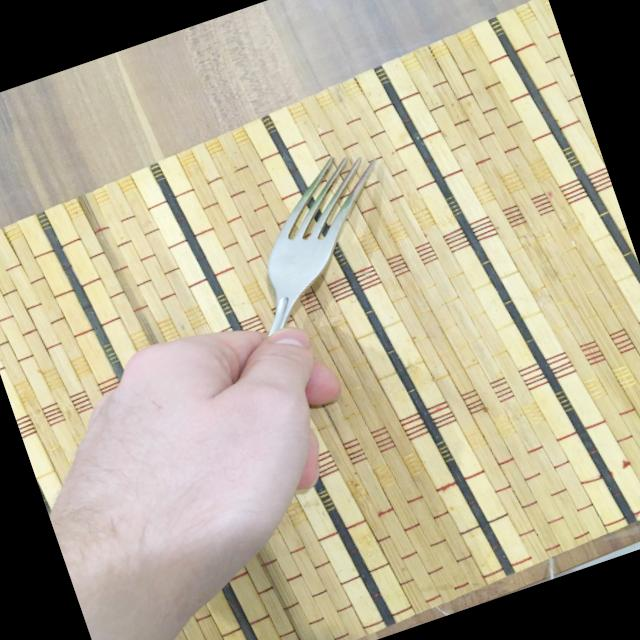fork: (144, 142, 446, 432)
